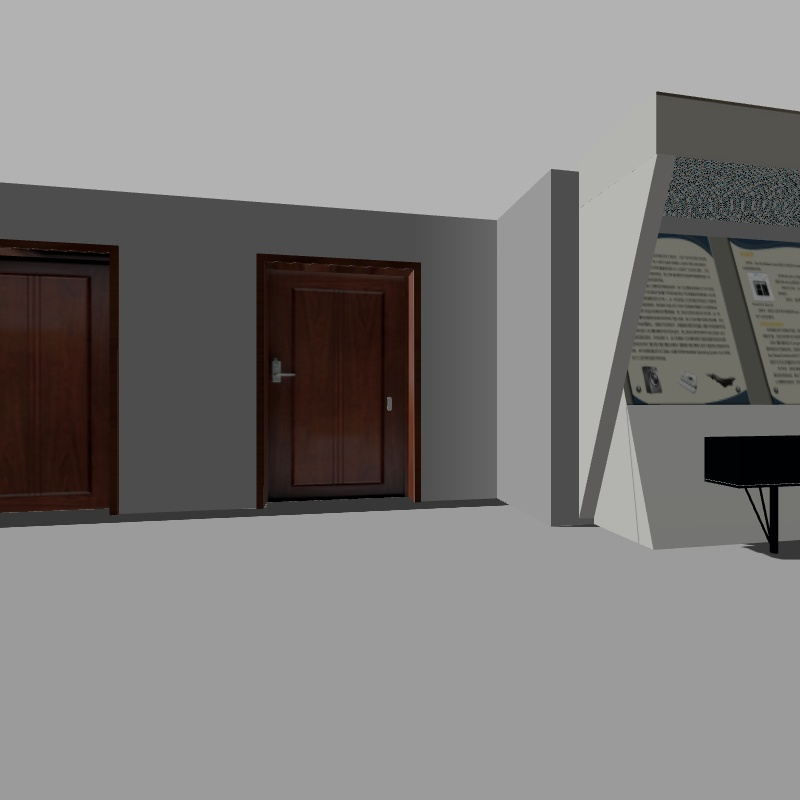handle: (264, 357, 299, 390)
